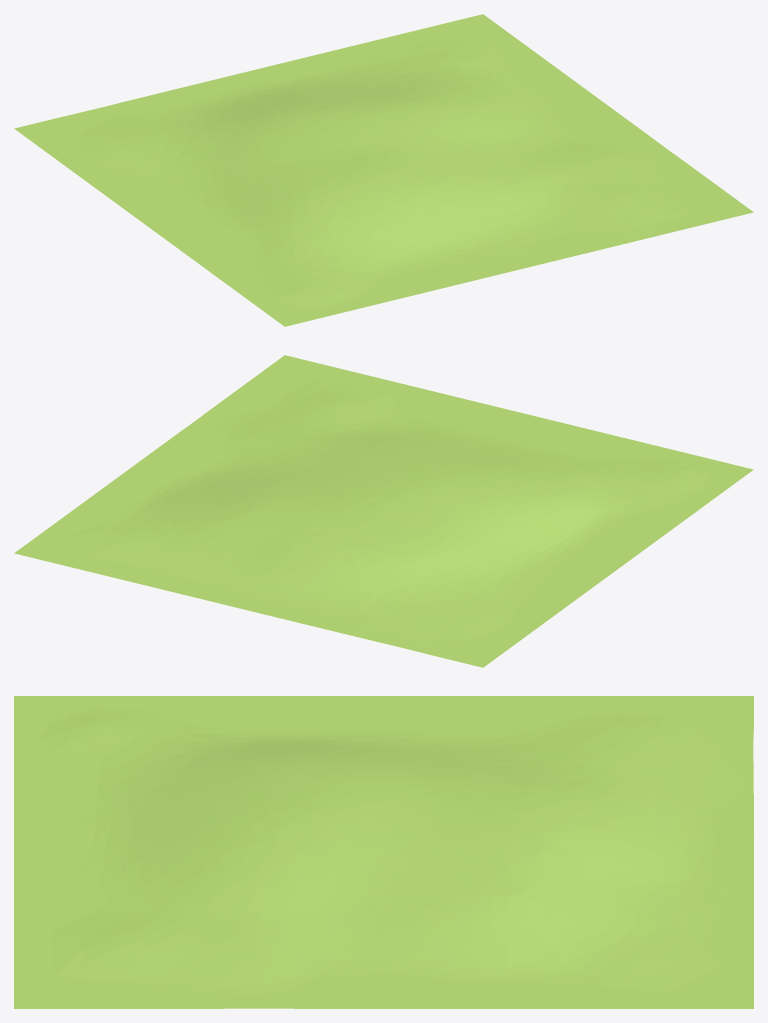
The model's file is Terrain_01.fbx.
3 views of the same model, one above another, from view 1: azimuth 30°, elevation 25°; view 2: azimuth 150°, elevation 25°; view 3: azimuth 270°, elevation 25° (orthographic). The views are drawn at different scales.
Visible parts, largest first — view 1: Terrain_01; view 2: Terrain_01; view 3: Terrain_01.
Boxes of the visible parts, x1=… form: Terrain_01: x1=14, y1=14, x2=753, y2=326; Terrain_01: x1=14, y1=355, x2=753, y2=667; Terrain_01: x1=14, y1=696, x2=753, y2=1008.
Size of the model in its own units: 524 by 16.57 by 524.
